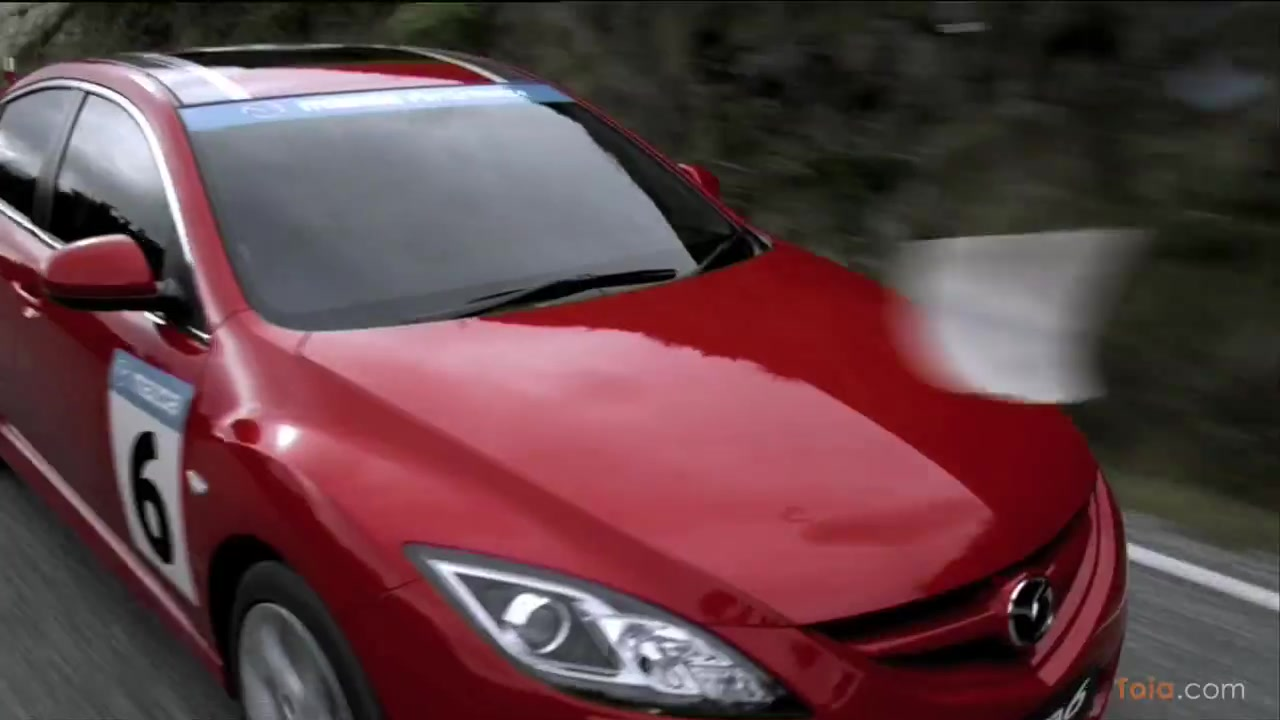car: (3, 37, 1129, 720)
